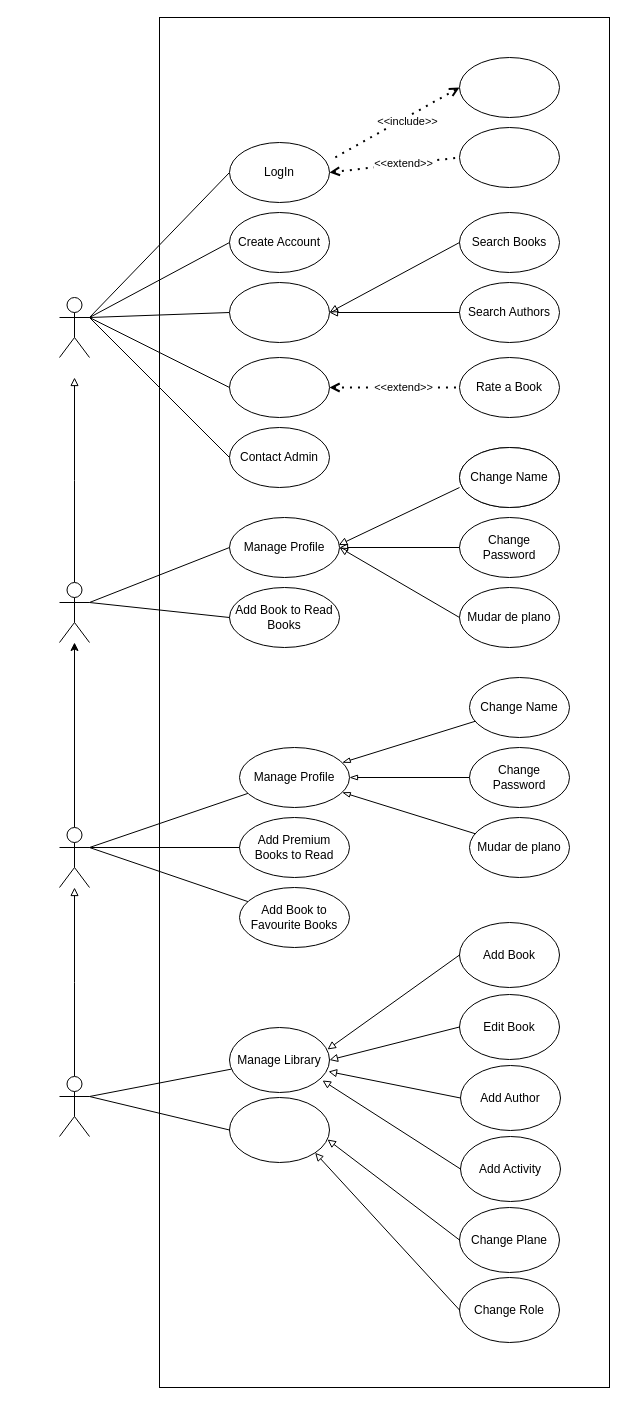
The diagram is 627 pixels wide and 1405 high, and some of its shapes have lost their labels. Each missing label, with the centre of its shape:
"Admin" goes at point 74,1106.
"Manage Users" goes at point 279,1129.
"Read Books" goes at point 279,387.
"Remember password" goes at point 509,157.
"Search" goes at point 279,312.
"User logado gratis" goes at point 74,612.
"User logado premium" goes at point 74,857.
"User nao Logado" goes at point 74,327.
"Verify Password" goes at point 509,87.
